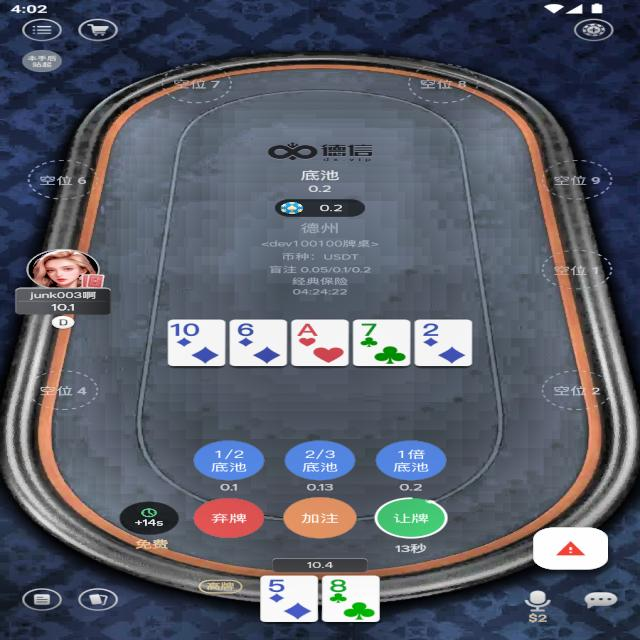10f: (169, 321, 201, 338)
2f: (419, 322, 442, 337)
5f: (264, 578, 291, 594)
6f: (234, 320, 257, 338)
7m: (358, 321, 380, 337)
8m: (326, 577, 349, 595)
Ah: (296, 320, 318, 338)
